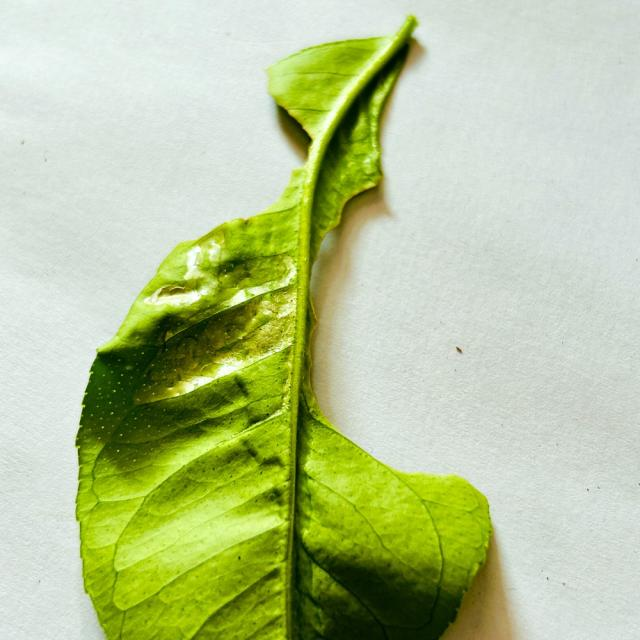Deficiency Leaf: (312, 180, 511, 495), (186, 81, 307, 239)
Lemon: (76, 17, 492, 639)
